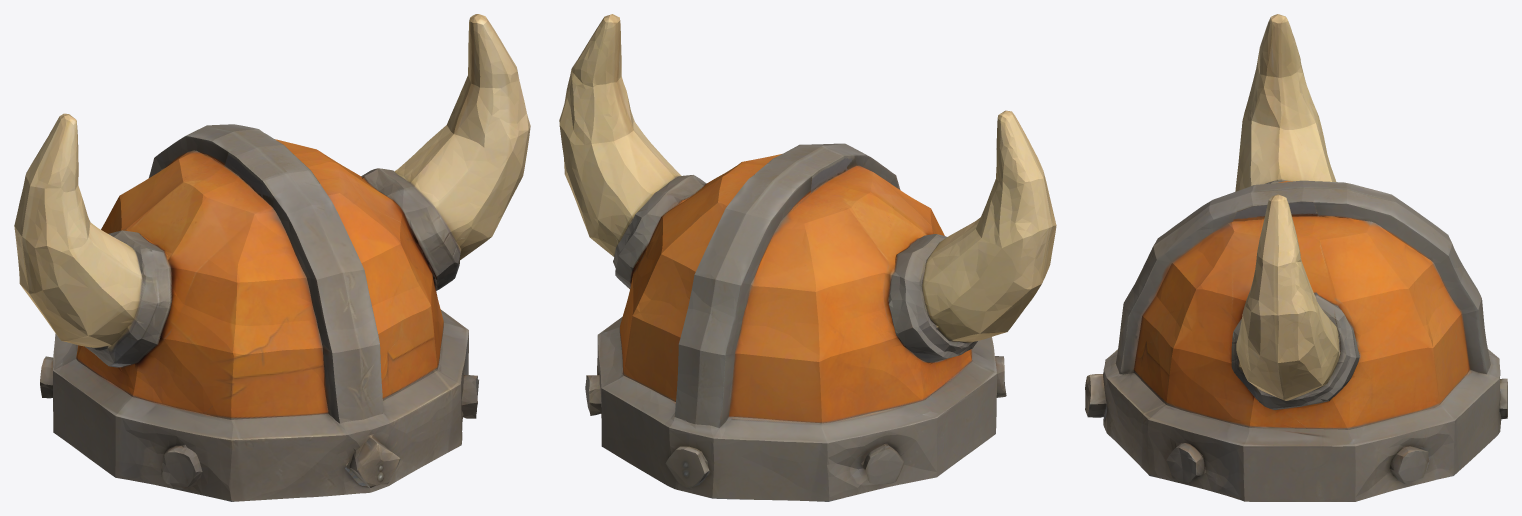
Rendered from Viking_Helmet_Render_0427214315_texture.fbx.
The picture shows the model from 3 angles, left to right: view 1: azimuth 30°, elevation 25°; view 2: azimuth 150°, elevation 25°; view 3: azimuth 270°, elevation 25°; orthographic projection. The views are drawn at different scales.
Visible parts, largest first — view 1: temp; view 2: temp; view 3: temp.
Boxes of the visible parts, left/top/right/bottom form: temp: left=14, top=14, right=530, bottom=501; temp: left=559, top=14, right=1056, bottom=501; temp: left=1085, top=14, right=1507, bottom=501.
Bounding box in the file's own units: 200 × 140 × 162.
Materials: 1 (1 with a texture image).
